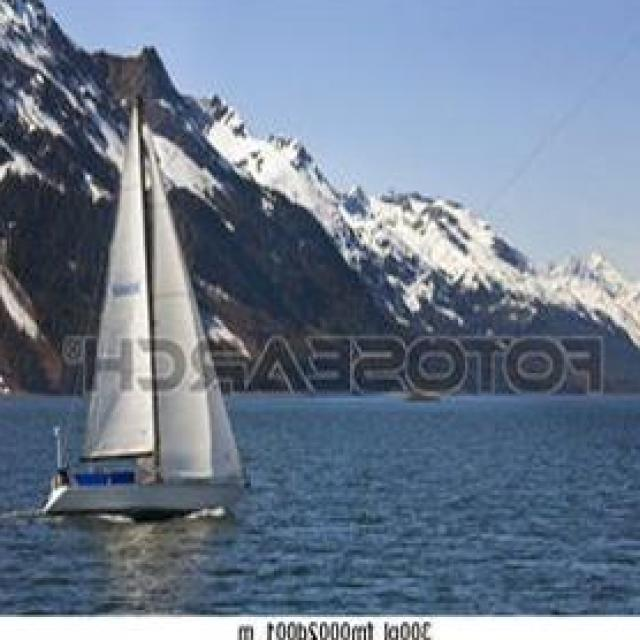sailboat: (42, 91, 248, 522)
